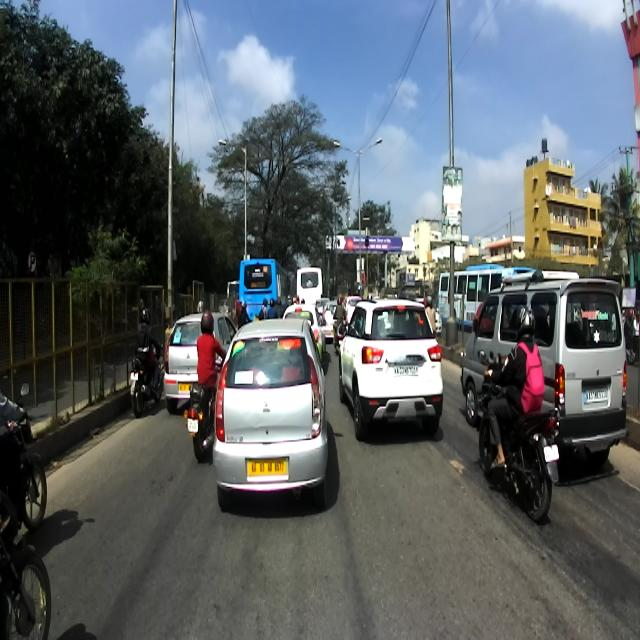car ahead at: (212, 319, 334, 511), (343, 305, 444, 442)
motorcycle ahead at: (476, 395, 565, 517), (178, 377, 210, 459), (125, 352, 162, 415)
